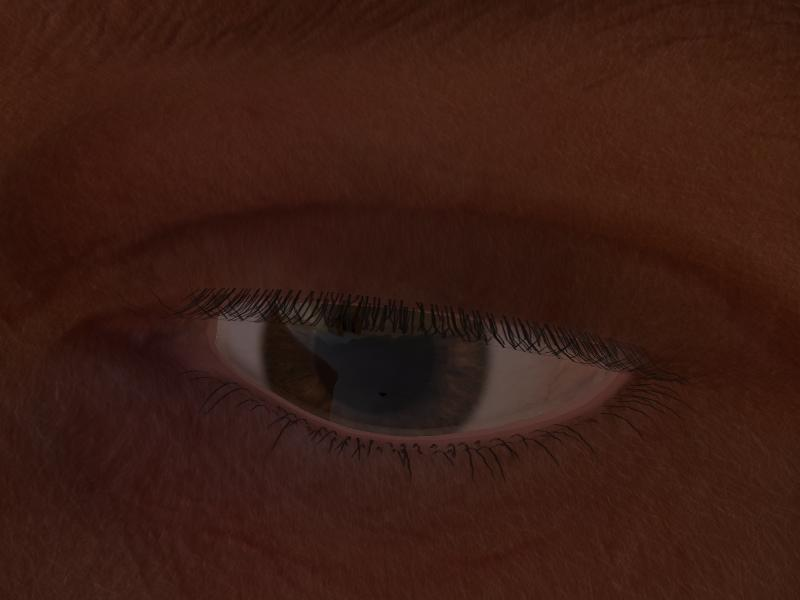eye: (260, 297, 490, 438)
